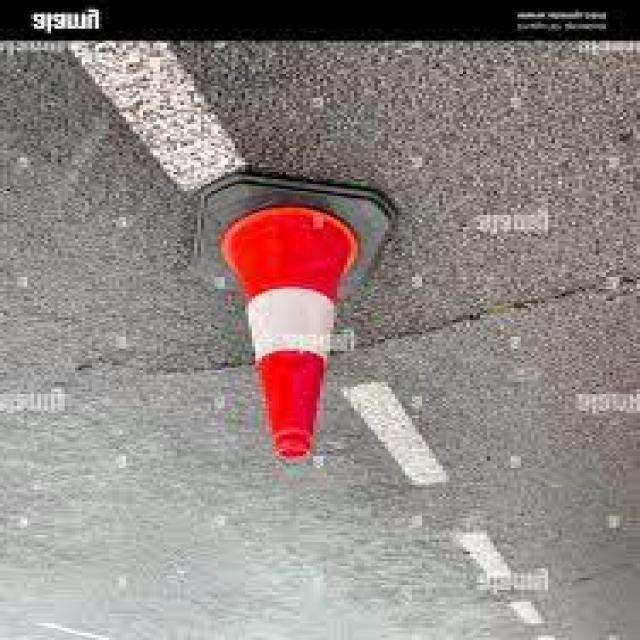cone: (190, 162, 395, 468)
